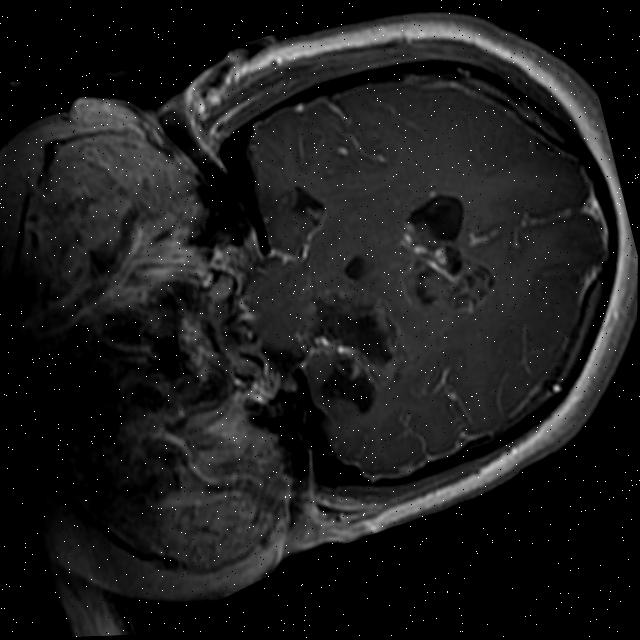Glioma: (286, 273, 411, 404), (392, 209, 501, 327)
